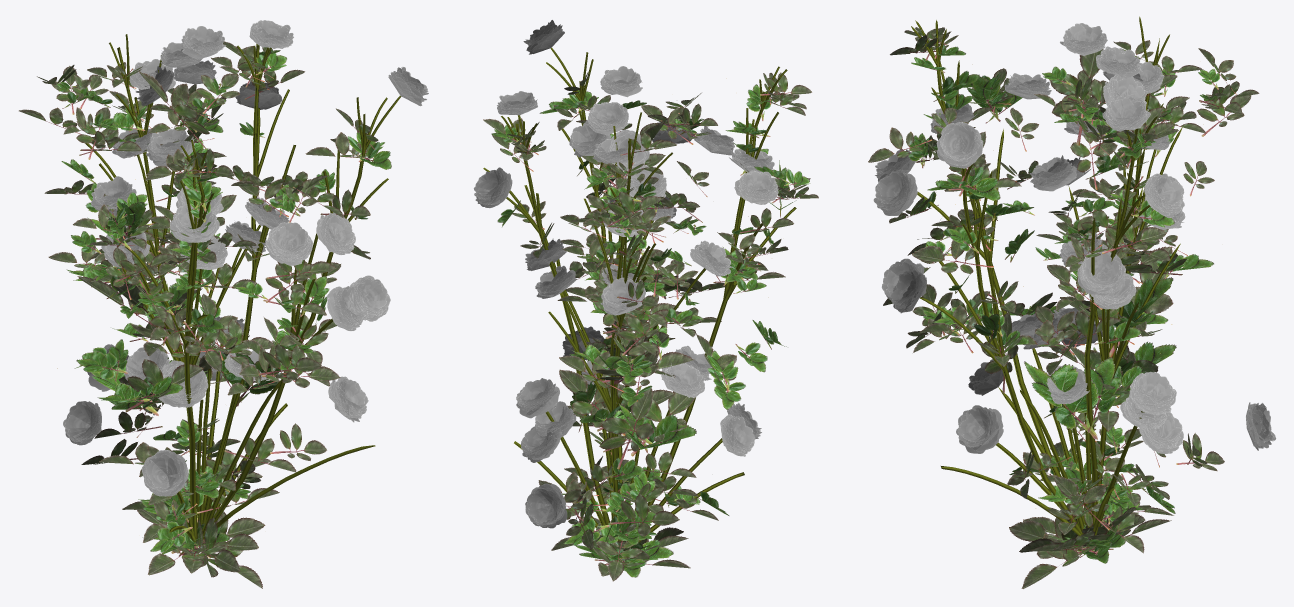
The model's file is rose_bush.glb.
The picture shows the model from 3 angles, left to right: view 1: azimuth 30°, elevation 25°; view 2: azimuth 150°, elevation 25°; view 3: azimuth 270°, elevation 25°; orthographic projection. The views are drawn at different scales.
Visible parts, largest first — view 1: Object_3, Object_2, Object_4; view 2: Object_3, Object_2, Object_4; view 3: Object_3, Object_2, Object_4.
Part boxes in pixels (left/top/right/bottom): Object_3: left=19, top=41, right=391, bottom=588; Object_2: left=63, top=20, right=428, bottom=496; Object_4: left=85, top=34, right=401, bottom=542; Object_3: left=483, top=72, right=818, bottom=581; Object_2: left=473, top=20, right=778, bottom=528; Object_4: left=483, top=48, right=796, bottom=542; Object_3: left=868, top=27, right=1259, bottom=588; Object_2: left=873, top=23, right=1276, bottom=453; Object_4: left=911, top=16, right=1182, bottom=536.
Bounding box in the file's own units: 1.3 × 1.98 × 1.36.
3 materials, 3 textured.
